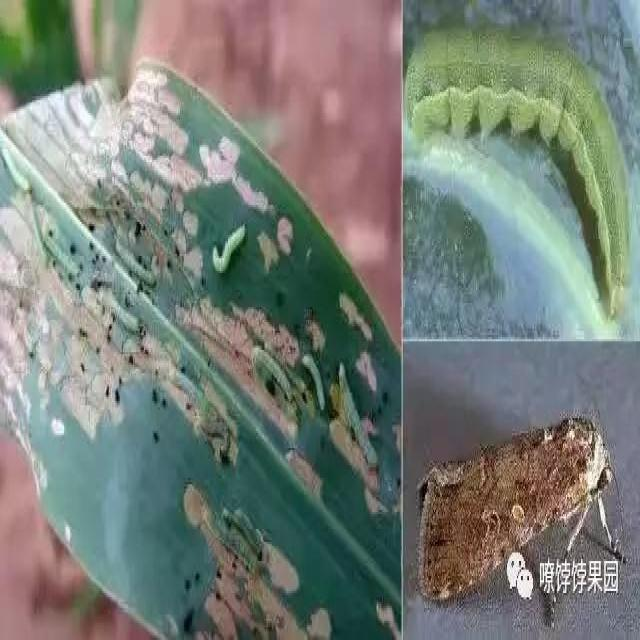BeetArmyWorm-Adult-: (411, 400, 619, 614)
BeetArmyWorm-Larva-: (404, 19, 632, 320), (336, 352, 380, 470), (247, 338, 295, 412), (110, 223, 156, 291), (204, 218, 249, 278), (298, 348, 329, 422)
